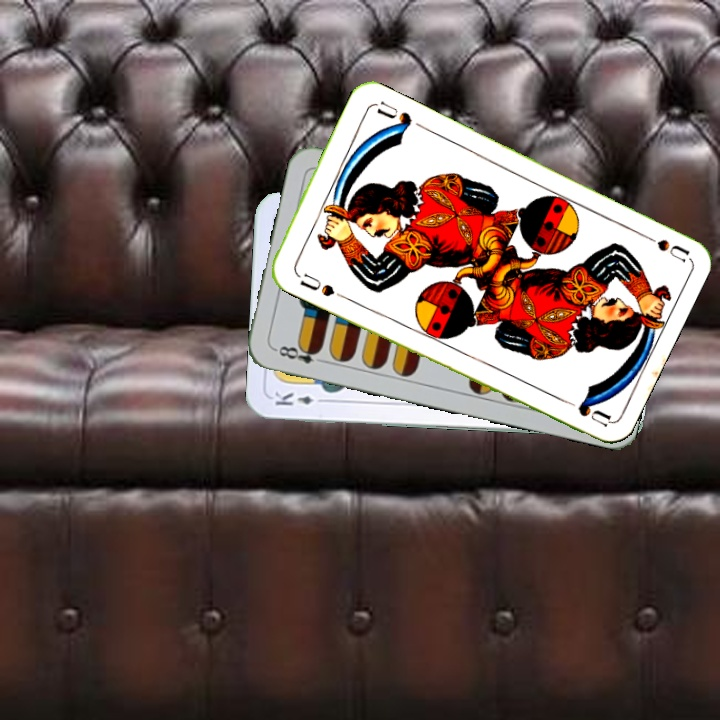E8: (270, 340, 329, 367)
EK: (270, 388, 329, 408)
SU: (633, 227, 690, 264), (291, 267, 337, 300)
